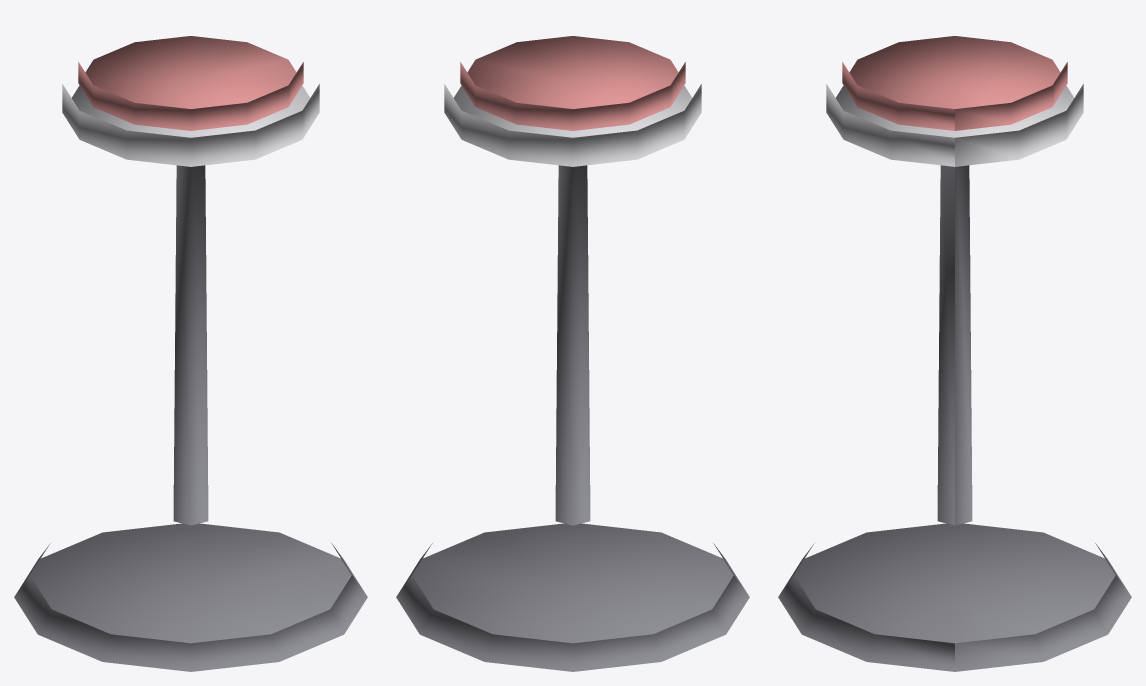
The model's file is stool.glb.
The picture shows the model from 3 angles, left to right: view 1: azimuth 30°, elevation 25°; view 2: azimuth 150°, elevation 25°; view 3: azimuth 270°, elevation 25°; orthographic projection.
Visible parts, largest first — view 1: base, cushion, pole, seat; view 2: base, cushion, pole, seat; view 3: base, cushion, pole, seat.
Part boxes in pixels (x1,y1,x2,y2): base: (14,523,367,671); cushion: (78,36,303,130); pole: (173,165,208,525); seat: (62,84,319,166); base: (396,523,749,671); cushion: (460,36,685,130); pole: (555,165,590,525); seat: (444,84,701,166); base: (778,523,1131,671); cushion: (842,36,1067,130); pole: (937,165,972,525); seat: (826,84,1083,166).
Size of the model in its own units: 0.44 by 0.735 by 0.44.
